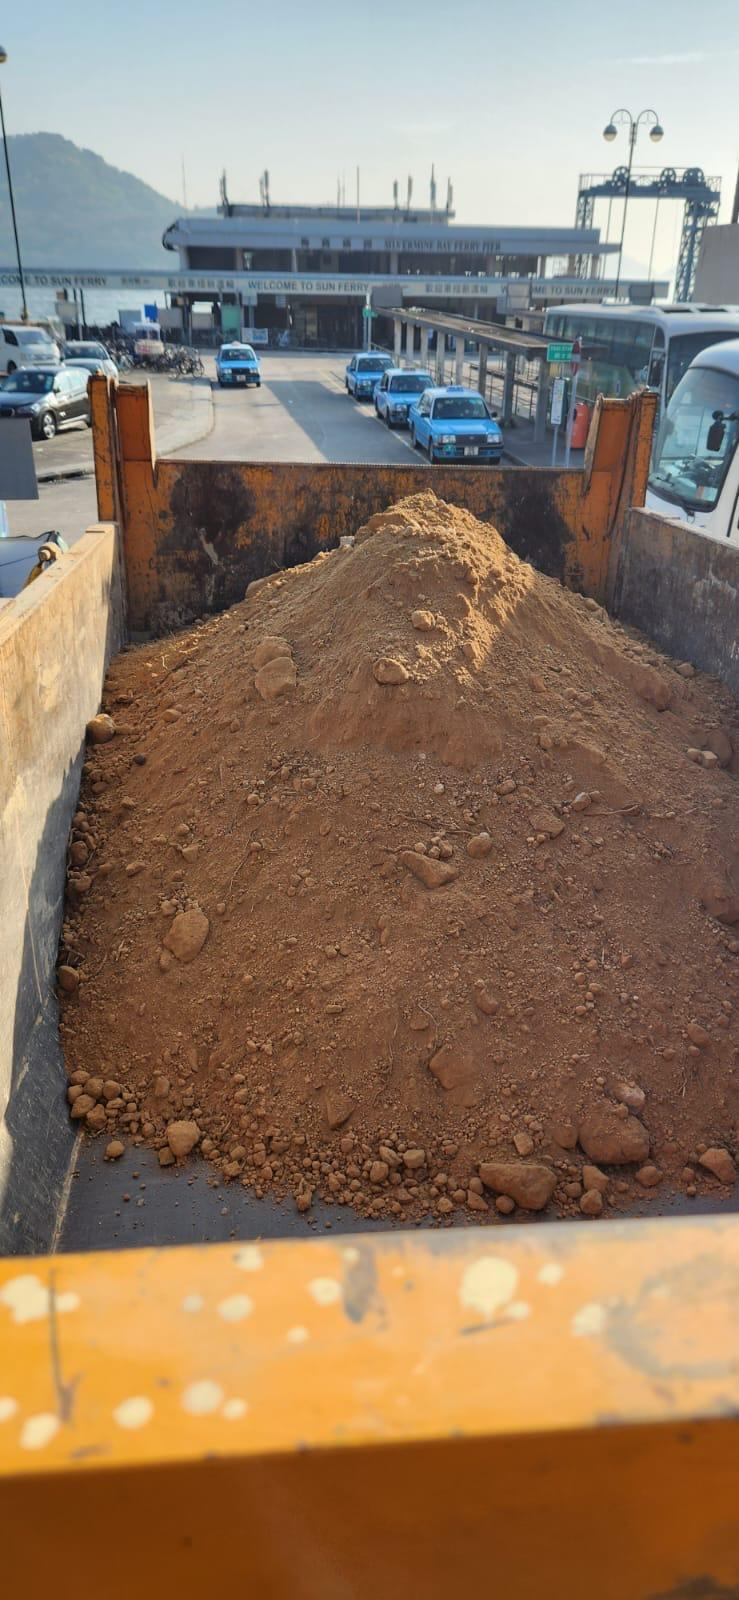dirt: (56, 486, 737, 1235)
stone: (477, 1159, 557, 1210), (578, 1111, 650, 1165), (161, 907, 209, 961), (399, 848, 459, 888), (253, 655, 297, 700), (698, 1146, 735, 1183), (251, 635, 292, 668), (164, 1119, 200, 1156), (372, 655, 409, 685), (85, 712, 114, 743), (465, 831, 491, 857), (410, 608, 435, 631), (103, 1139, 124, 1159)
